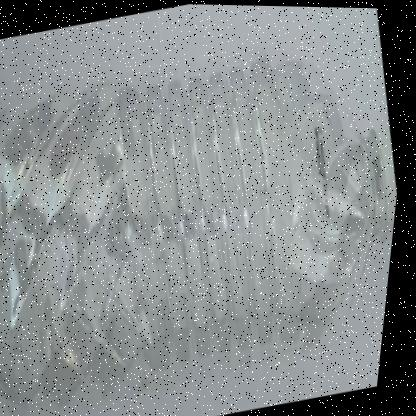bottle cap: (225, 5, 416, 374)
